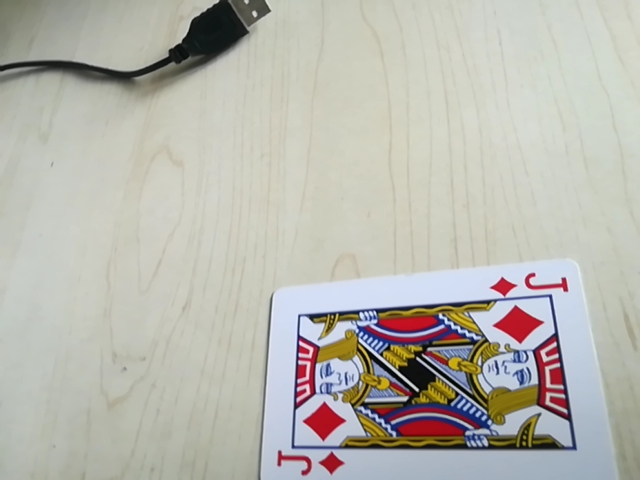fk j: (491, 266, 575, 301), (272, 447, 342, 479)
